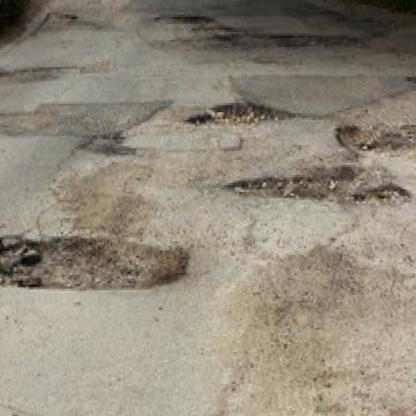pothole: (0, 227, 190, 296), (224, 166, 412, 206), (335, 119, 416, 158), (187, 102, 297, 129), (225, 34, 363, 52), (157, 12, 213, 26)
